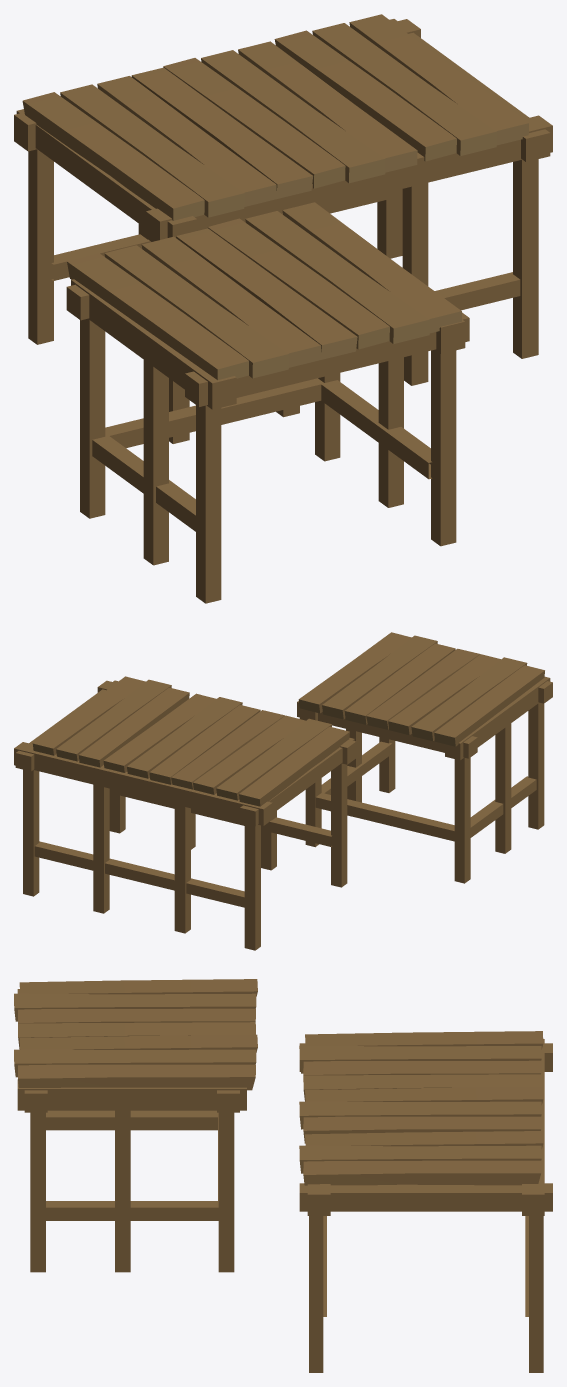
Rendered from quaternius-ultimate-fantasy-rts-houses-firstage-3-level-2.glb.
3 renders of one model, top to bottom at view 1: azimuth 30°, elevation 25°; view 2: azimuth 150°, elevation 25°; view 3: azimuth 270°, elevation 25°, orthographic. The views are drawn at different scales.
Visible parts, largest first — view 1: Houses_FirstAge_3_Level2; view 2: Houses_FirstAge_3_Level2; view 3: Houses_FirstAge_3_Level2.
Part boxes in pixels (bbox=[...]): Houses_FirstAge_3_Level2: bbox=[14, 14, 552, 603]; Houses_FirstAge_3_Level2: bbox=[14, 632, 552, 950]; Houses_FirstAge_3_Level2: bbox=[14, 979, 552, 1372].
Size of the model in its own units: 1.32 by 0.574 by 1.44.
